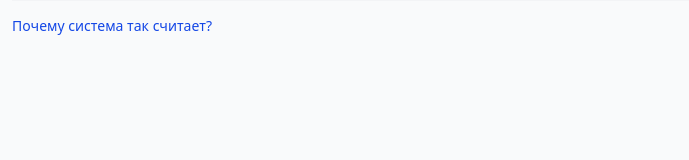
it: WhyExplanation › для «нет данных» показывает честное объяснение, а не пустоту (R71.1)
Click the button "Почему система так считает?". click: click(112, 26)
box: [12,16,212,36]
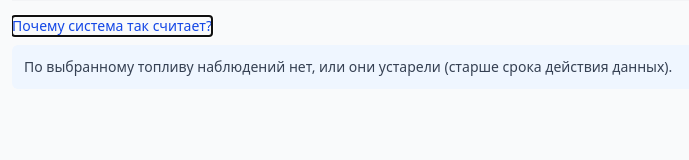
Expected: the text "наблюдений нет, или они устарели" is shown, [24,57,672,76]
